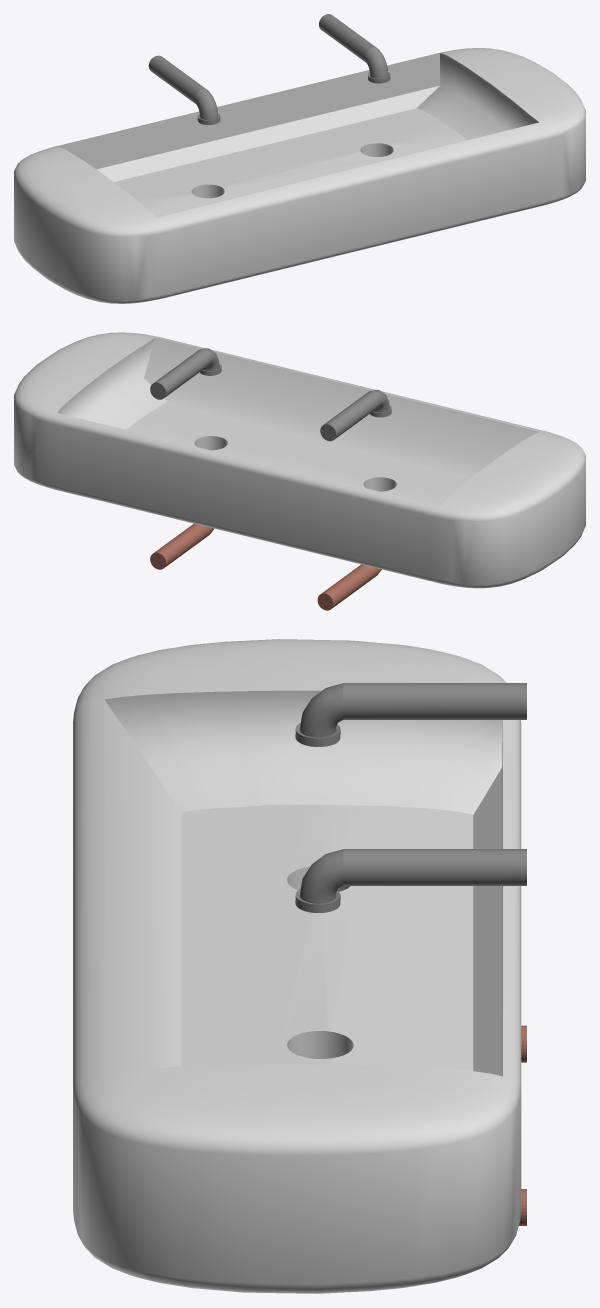
The model's file is Lavabo.fbx.
3 views of the same model, one above another, from view 1: azimuth 30°, elevation 25°; view 2: azimuth 150°, elevation 25°; view 3: azimuth 270°, elevation 25° (orthographic). The views are drawn at different scales.
Visible parts, largest first — view 1: Cube.001, Cylinder, Cylinder.001; view 2: Cube.001, Cylinder, Cylinder.001, Cylinder.003, Cylinder.002; view 3: Cube.001, Cylinder, Cylinder.001.
Part boxes in pixels (left/top/right/bottom): Cube.001: left=14, top=48, right=585, bottom=303; Cylinder: left=148, top=55, right=220, bottom=124; Cylinder.001: left=319, top=14, right=390, bottom=83; Cube.001: left=14, top=332, right=585, bottom=588; Cylinder: left=320, top=389, right=391, bottom=441; Cylinder.001: left=150, top=348, right=221, bottom=399; Cylinder.003: left=317, top=564, right=381, bottom=610; Cylinder.002: left=150, top=523, right=213, bottom=569; Cube.001: left=73, top=639, right=521, bottom=1293; Cylinder: left=295, top=683, right=526, bottom=746; Cylinder.001: left=295, top=849, right=526, bottom=912.
Size of the model in its own units: 263 by 90.42 by 99.68.
